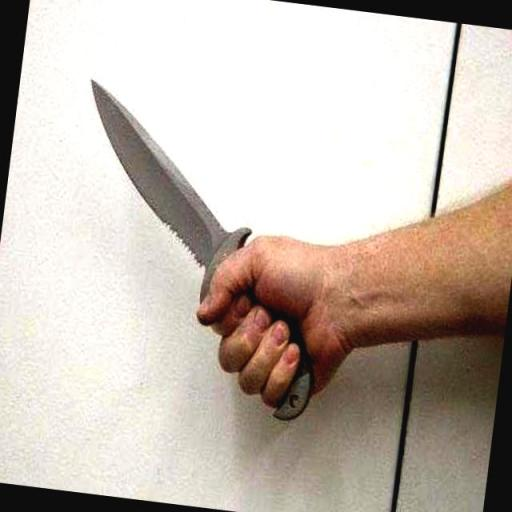knife: (45, 66, 352, 436)
